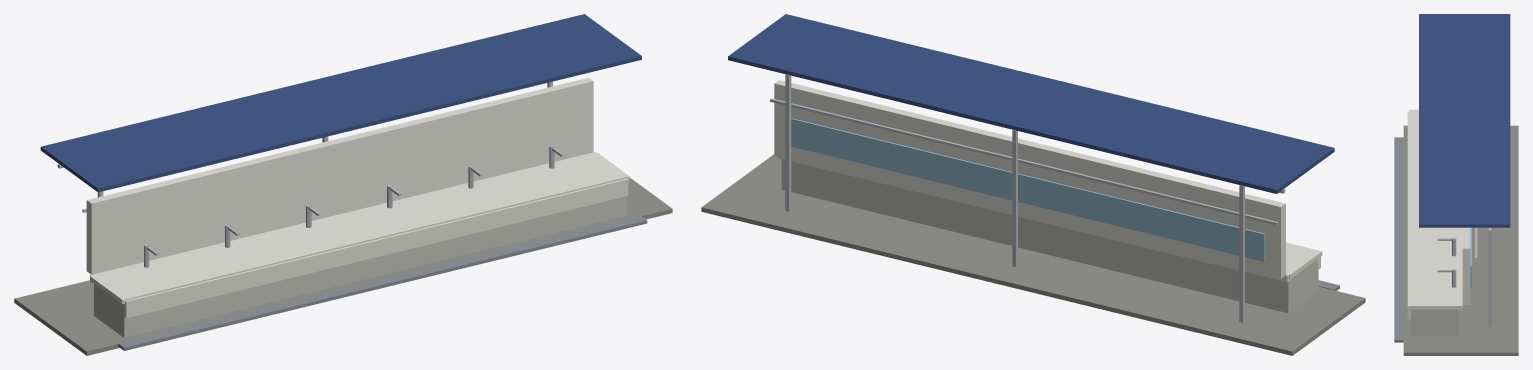
The model's file is camp_basin.glb.
3 renders of one model, left to right at view 1: azimuth 30°, elevation 25°; view 2: azimuth 150°, elevation 25°; view 3: azimuth 270°, elevation 25°, orthographic. The views are drawn at different scales.
Parts seen in each view (by area): view 1: CampBasin; view 2: CampBasin; view 3: CampBasin.
Boxes of the visible parts, x1,y1,x2,y2 form: CampBasin: [14, 14, 672, 355]; CampBasin: [701, 14, 1365, 355]; CampBasin: [1394, 14, 1518, 355].
Size of the model in its own units: 11.2 by 2.84 by 2.6.
